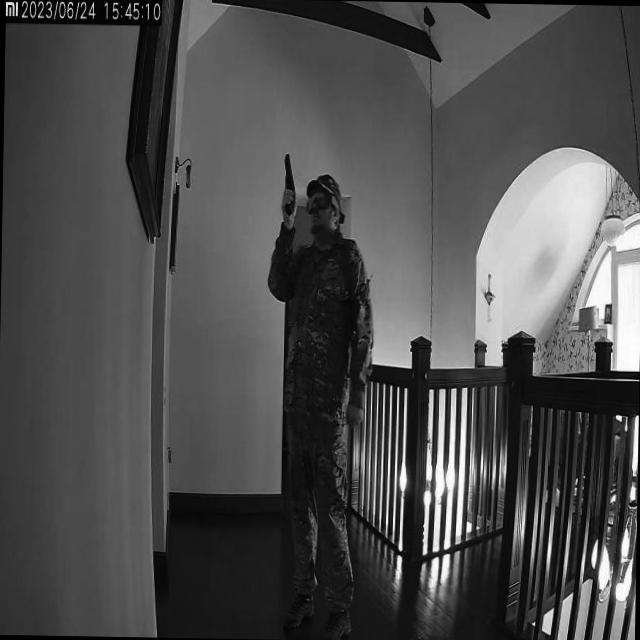gun: (281, 150, 299, 219)
person with a gun: (262, 147, 374, 640)
